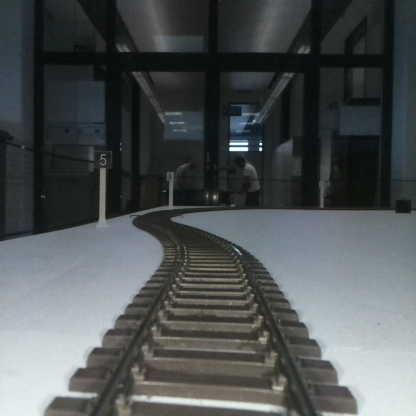black-info-5: (95, 150, 111, 227)
white-info-6: (166, 171, 173, 208)
